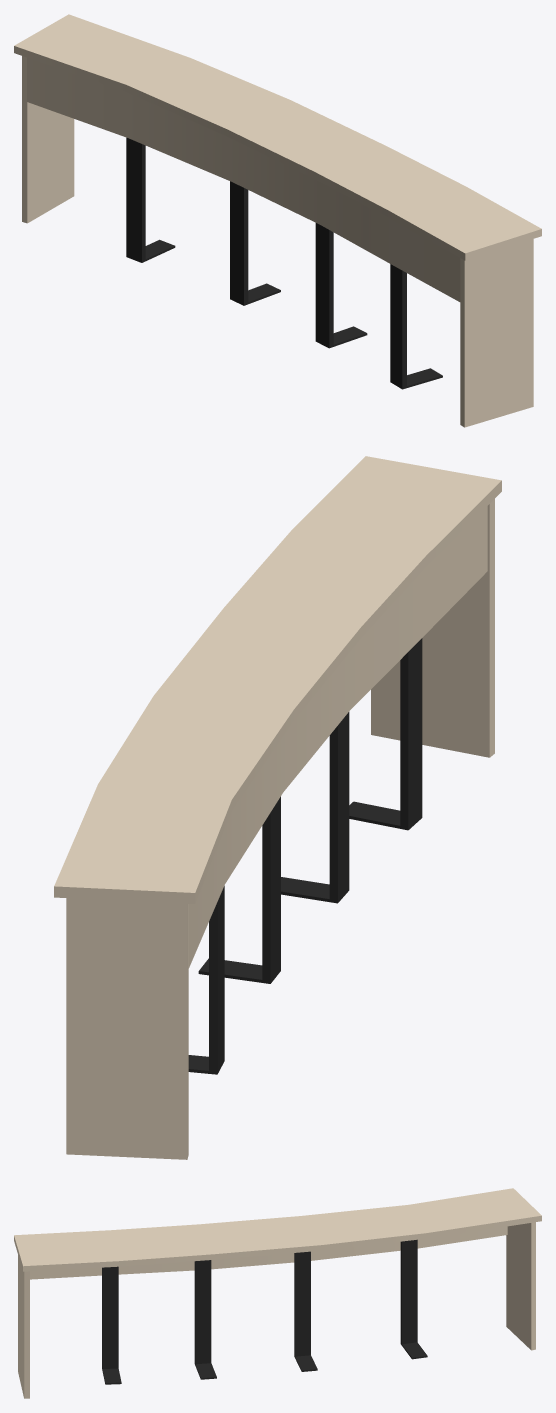
File: AmphiPetitBanc.fbx
3 views of the same model, one above another, from view 1: azimuth 30°, elevation 25°; view 2: azimuth 150°, elevation 25°; view 3: azimuth 270°, elevation 25° (orthographic). The views are drawn at different scales.
Visible parts, largest first — view 1: amphi:polySurface3, pCube1, pCube3, pCube2, pCube4; view 2: amphi:polySurface3, pCube4, pCube3, pCube2, pCube1; view 3: amphi:polySurface3, pCube3, pCube1, pCube2, pCube4.
Boxes of the visible parts, <box> form: amphi:polySurface3: <box>14,14,541,427</box>; pCube1: <box>126,137,175,262</box>; pCube3: <box>315,223,367,348</box>; pCube2: <box>230,181,280,305</box>; pCube4: <box>390,264,442,389</box>; amphi:polySurface3: <box>54,456,501,1159</box>; pCube4: <box>349,638,422,830</box>; pCube3: <box>281,712,349,903</box>; pCube2: <box>198,796,280,983</box>; pCube1: <box>188,886,224,1074</box>; amphi:polySurface3: <box>14,1188,541,1398</box>; pCube3: <box>194,1260,216,1379</box>; pCube1: <box>400,1239,427,1359</box>; pCube2: <box>294,1251,317,1371</box>; pCube4: <box>102,1266,121,1384</box>.
Bounding box in the file's own units: 28.02 × 22.71 × 80.15.
